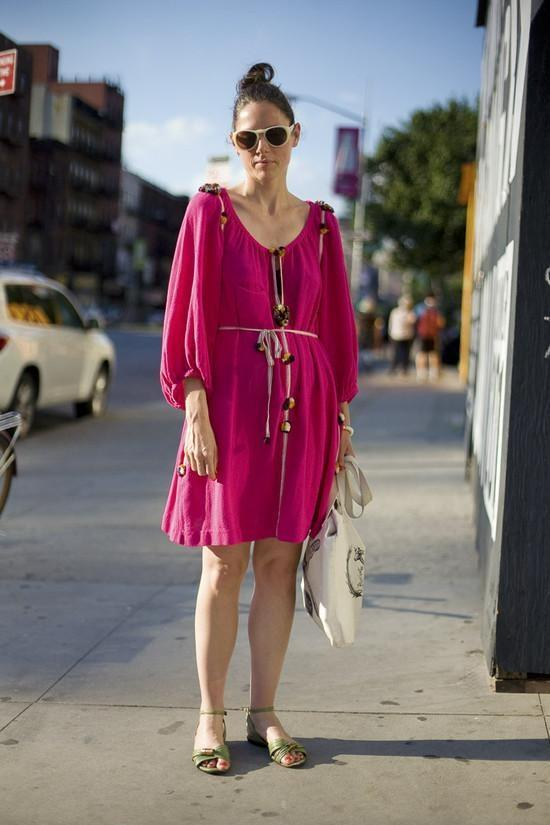dress: (158, 182, 359, 544)
